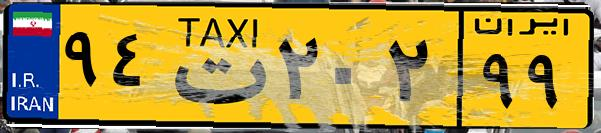0: (330, 28, 385, 110)
2: (270, 28, 330, 110), (385, 28, 445, 110)
4: (110, 28, 158, 98)
9: (57, 26, 110, 100), (475, 38, 525, 113), (525, 38, 570, 115)
ت: (158, 12, 270, 120)
